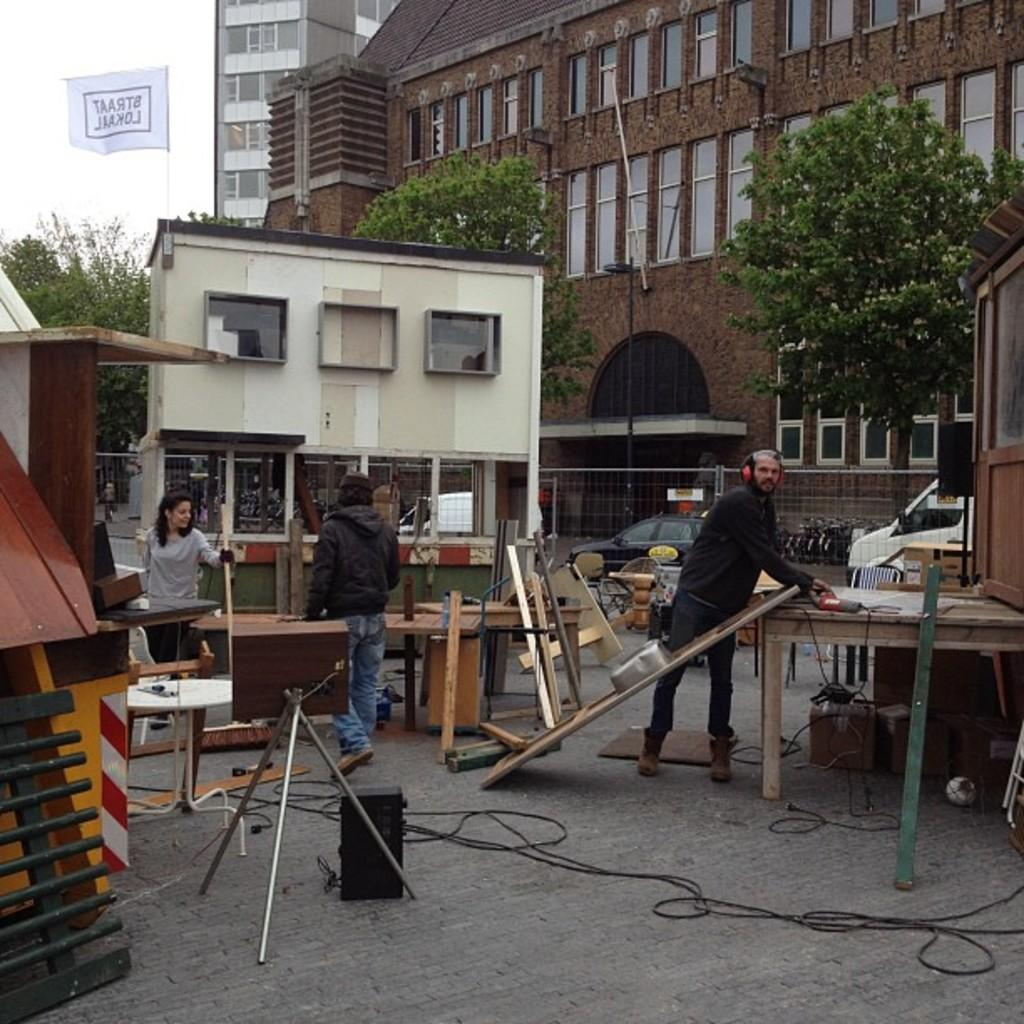Chair: (783, 562, 905, 686), (602, 550, 668, 599), (577, 552, 607, 602), (651, 540, 679, 571)
